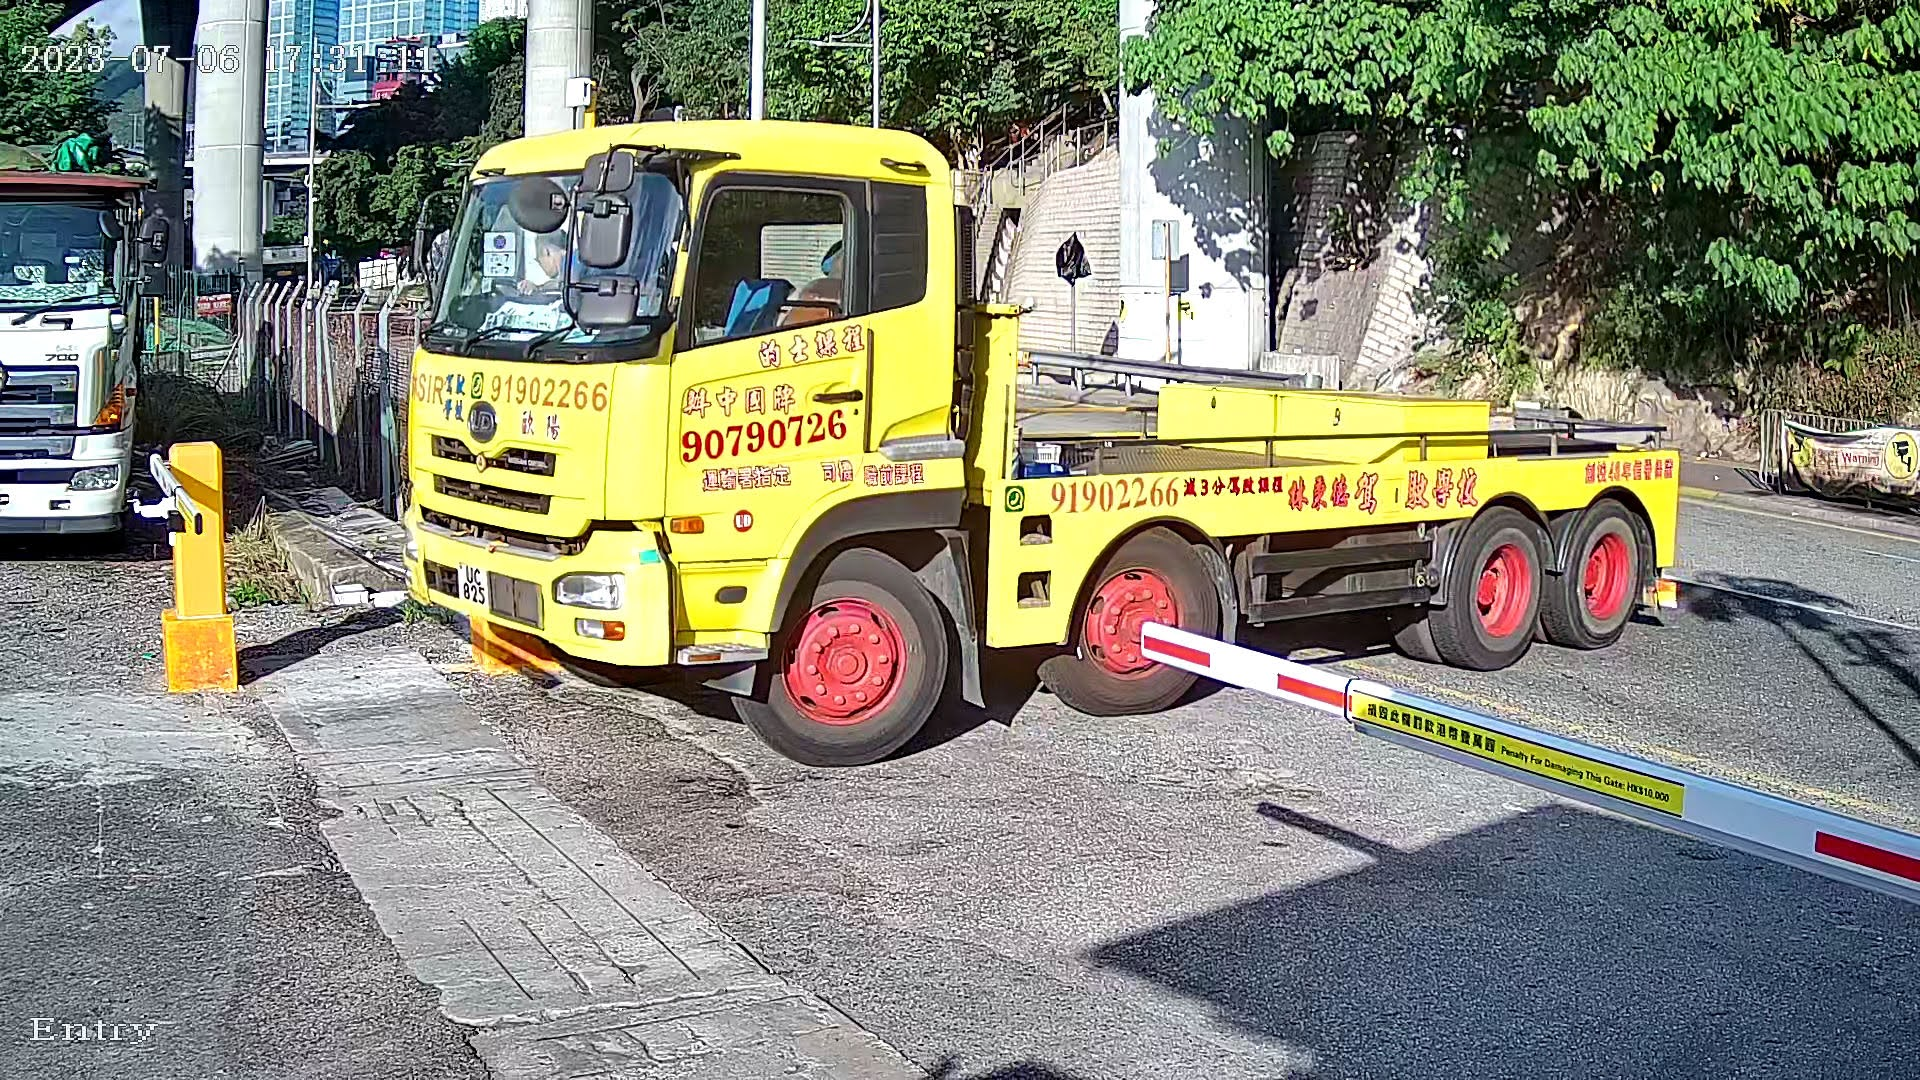truck: (316, 18, 1734, 804)
